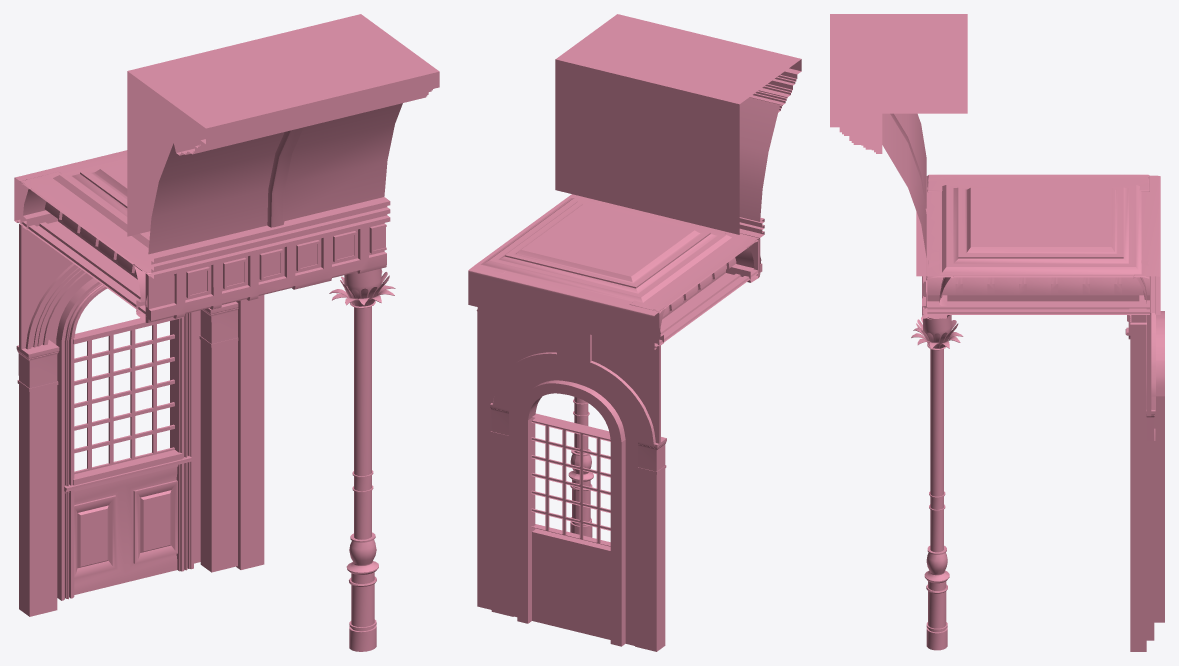
Rendered from recta1.glb.
The picture shows the model from 3 angles, left to right: view 1: azimuth 30°, elevation 25°; view 2: azimuth 150°, elevation 25°; view 3: azimuth 270°, elevation 25°; orthographic projection. The views are drawn at different scales.
Parts seen in each view (by area): view 1: SECCION_PARED; view 2: SECCION_PARED; view 3: SECCION_PARED.
Boxes of the visible parts, x1,y1,x2,y2 form: SECCION_PARED: (14,14,439,651); SECCION_PARED: (468,14,801,651); SECCION_PARED: (830,14,1164,651).
Size of what is drawn, in the model's own units: 4.45 by 10.42 by 5.86.
